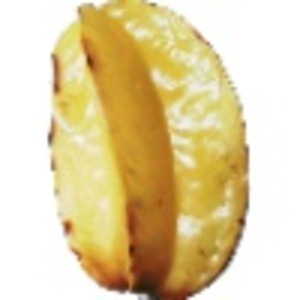carambola: (48, 1, 252, 300)
